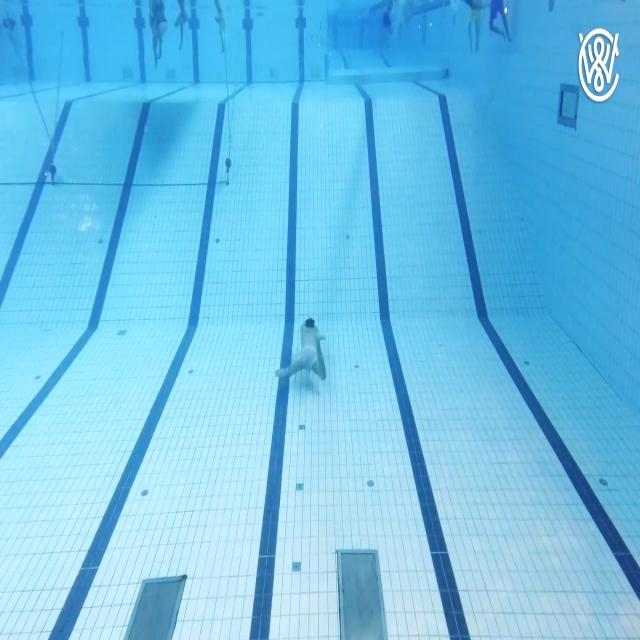Swimming: (275, 316, 329, 384)
